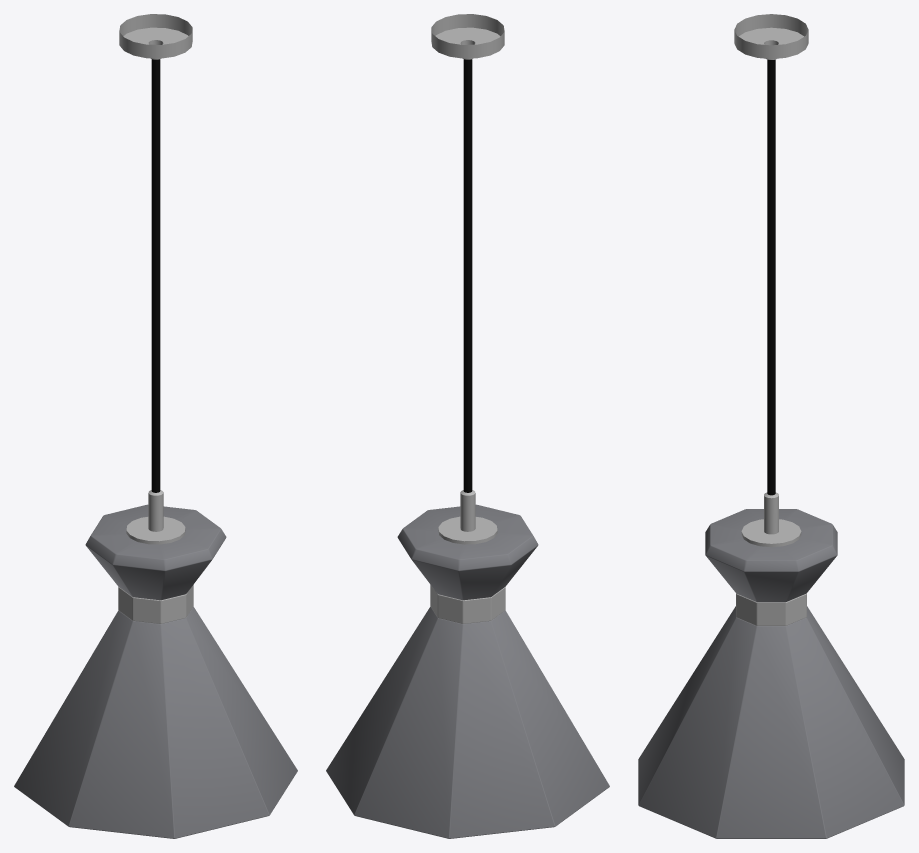
File: Octagonal concrete lamp.fbx
The picture shows the model from 3 angles, left to right: view 1: azimuth 30°, elevation 25°; view 2: azimuth 150°, elevation 25°; view 3: azimuth 270°, elevation 25°; orthographic projection.
Parts seen in each view (by area): view 1: Octagonal concrete lamp; view 2: Octagonal concrete lamp; view 3: Octagonal concrete lamp.
Boxes of the visible parts, x1,y1,x2,y2 form: Octagonal concrete lamp: [14, 14, 297, 838]; Octagonal concrete lamp: [326, 14, 609, 838]; Octagonal concrete lamp: [638, 14, 904, 838].
Size of the model in its own units: 19.24 by 60.11 by 19.24.
